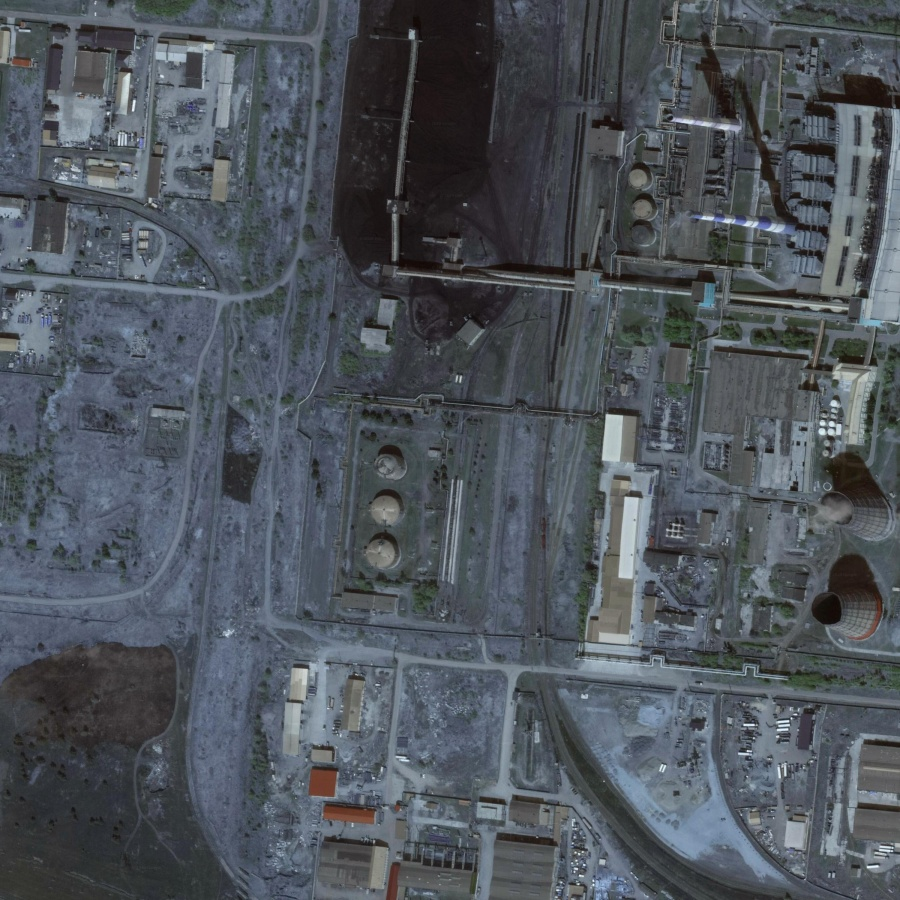PowerPlant: (647, 21, 836, 283), (325, 387, 473, 629)
